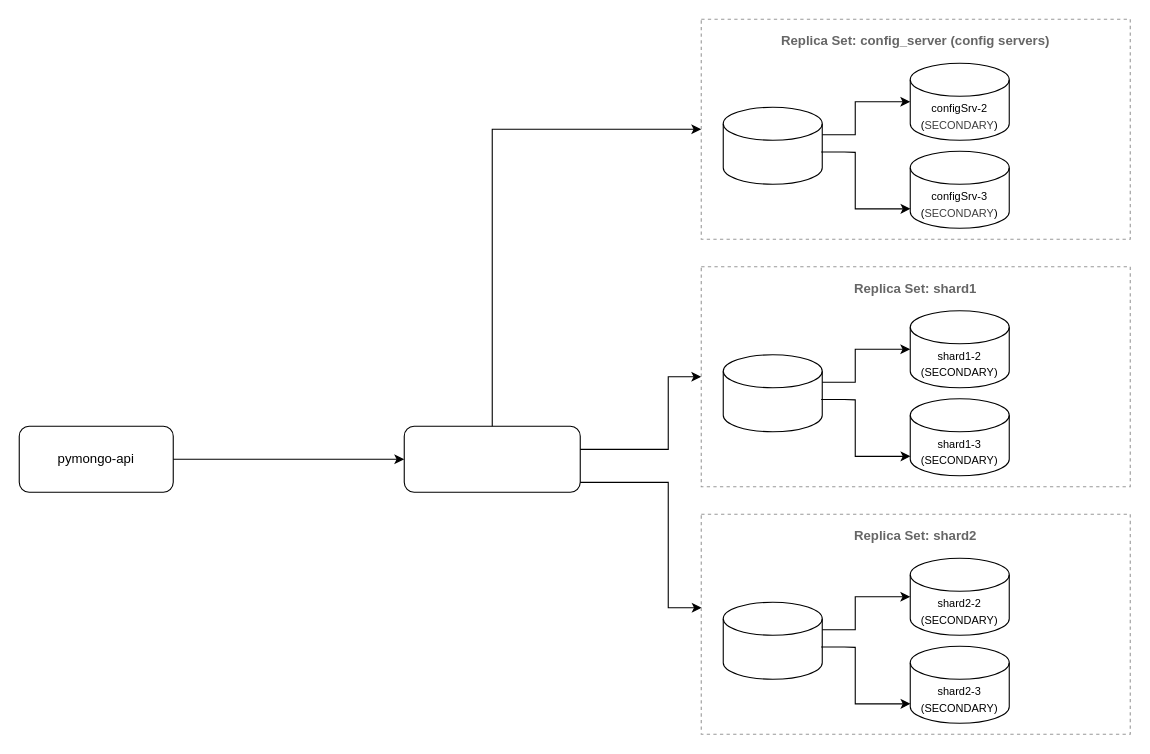
This 1150x754 diagram has some shape labels left out. Here are the shapes that lost their labels. From the top down, the centre of each, then its label:
the point at 772,145: configSrv-1 (PRIMARY)
the point at 772,393: shard1-1 (PRIMARY)
the point at 491,458: mongos_router
the point at 772,640: shard2-1 (PRIMARY)
